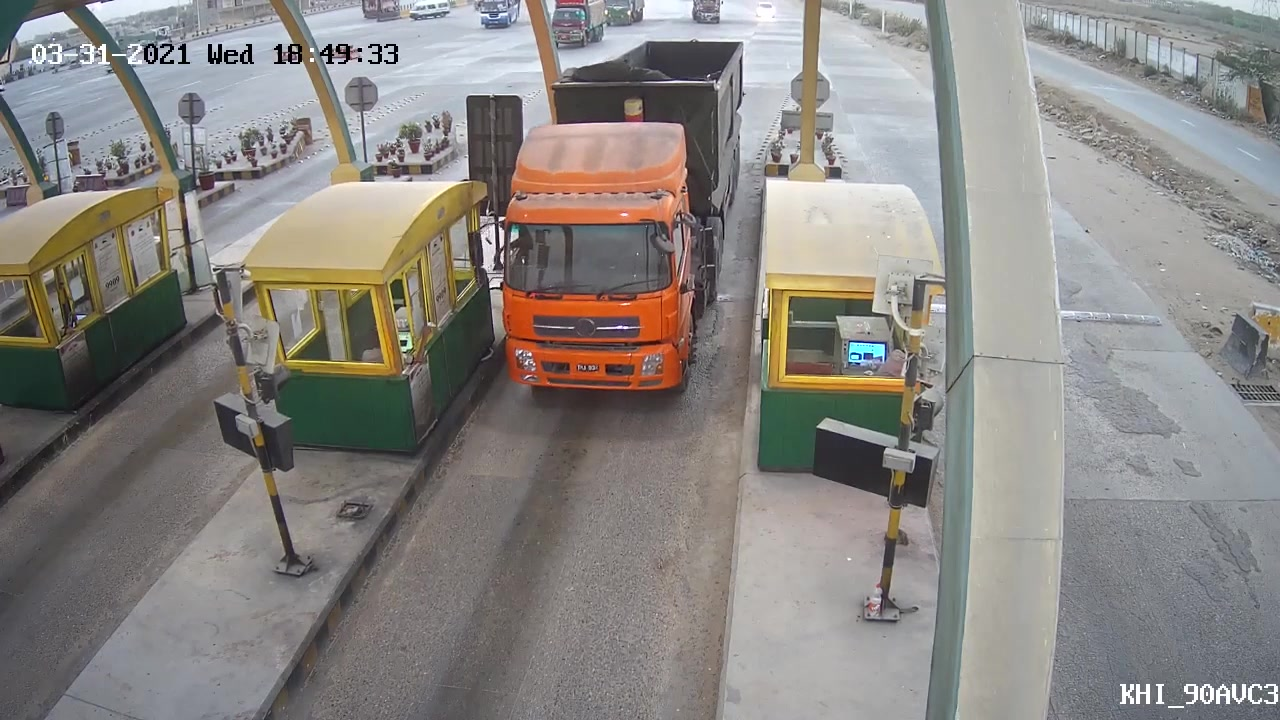F5: (480, 32, 751, 407)
